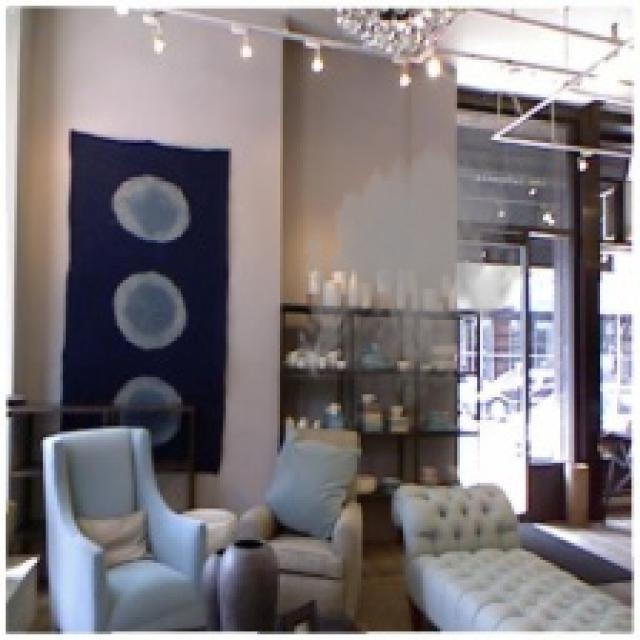Smoke: (292, 137, 534, 417)
